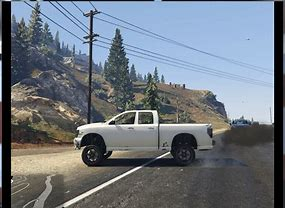smoke: (220, 118, 273, 150)
